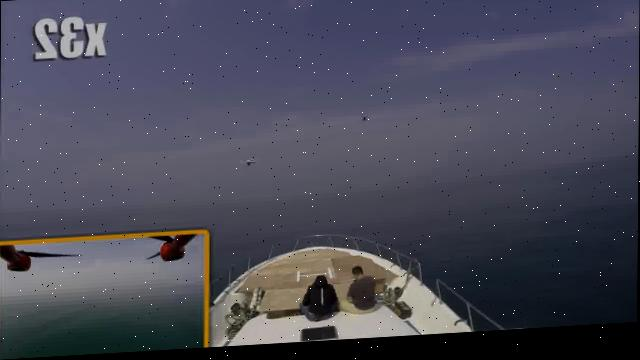drone: (236, 153, 256, 176), (355, 108, 371, 130)
